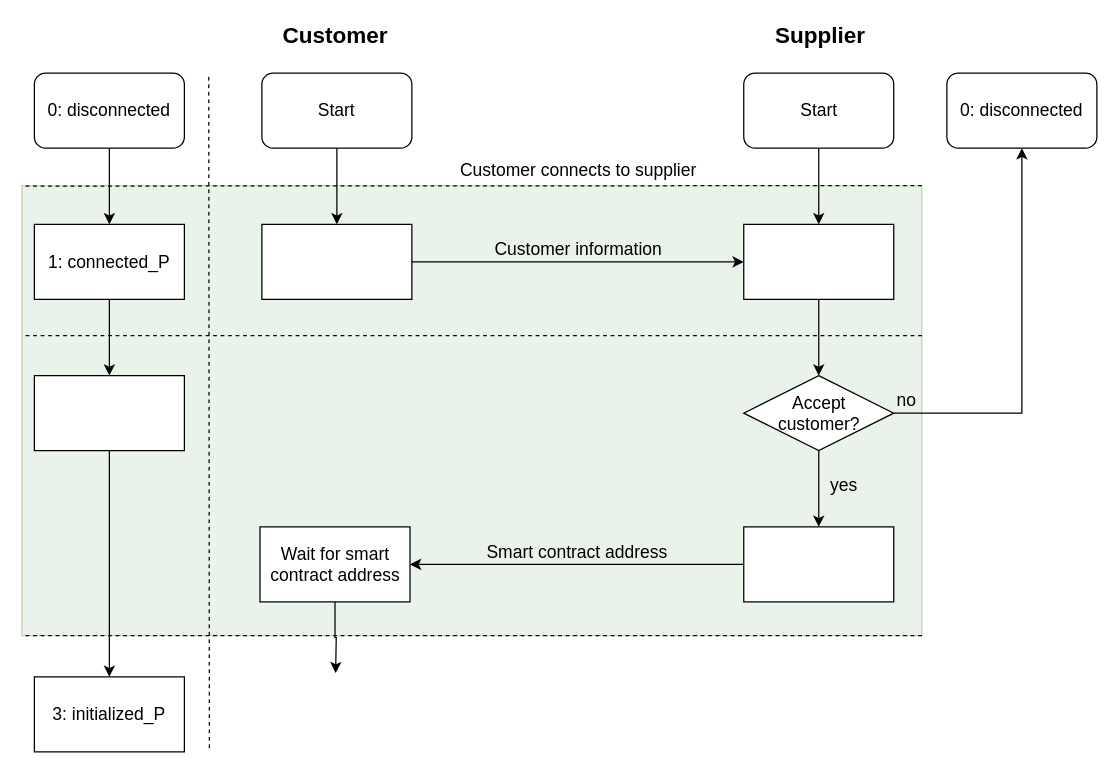
Some shapes in this 1119 by 774 pixel diagram are drawn without their labels. The box of each missing label's shape, as (x1, y1, x2, y2) in pixels:
2: connected_S: (33, 374, 184, 451)
Send customer information to supplier: (261, 223, 412, 299)
Send smart contract address to customer: (742, 526, 894, 602)
Wait for customer information: (742, 223, 894, 299)
